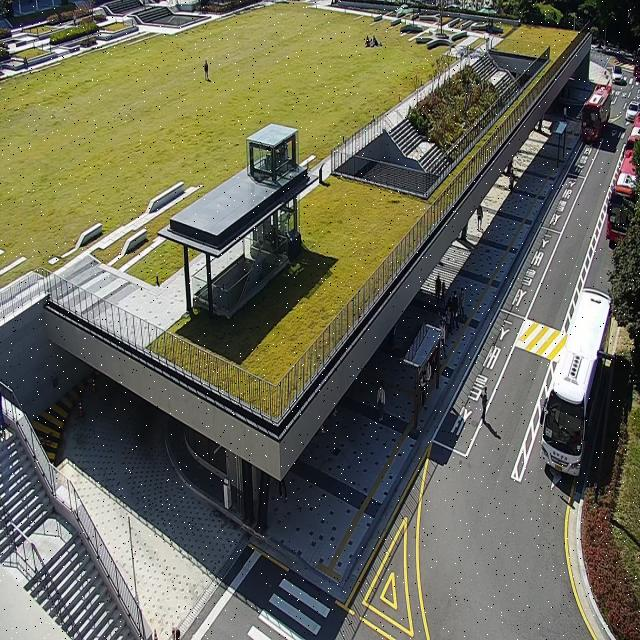queue: (415, 288, 465, 429)
